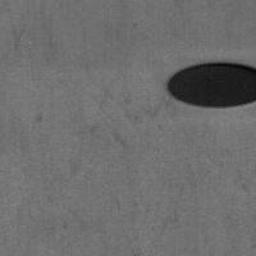Punching: (169, 63, 256, 106)
